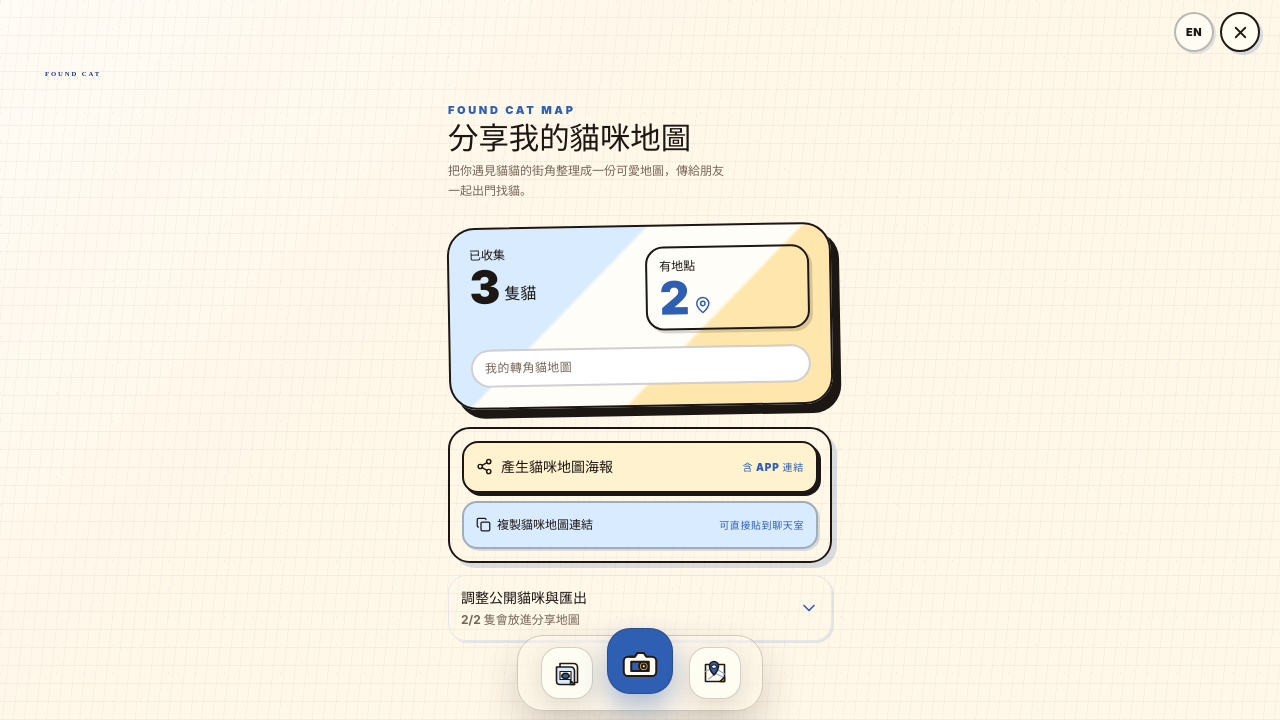
it: ShareCatdex page › keeps public-cat selection and CSV export behind advanced tools until opened
The image size is (1280, 720).
Expected: the button "匯出 Google My Maps CSV" is not shown
Click the button "調整公開貓咪與匯出 2/2 隻會放進分享地圖" at [524, 597], box [448,575,832,641]
(page scrolled)
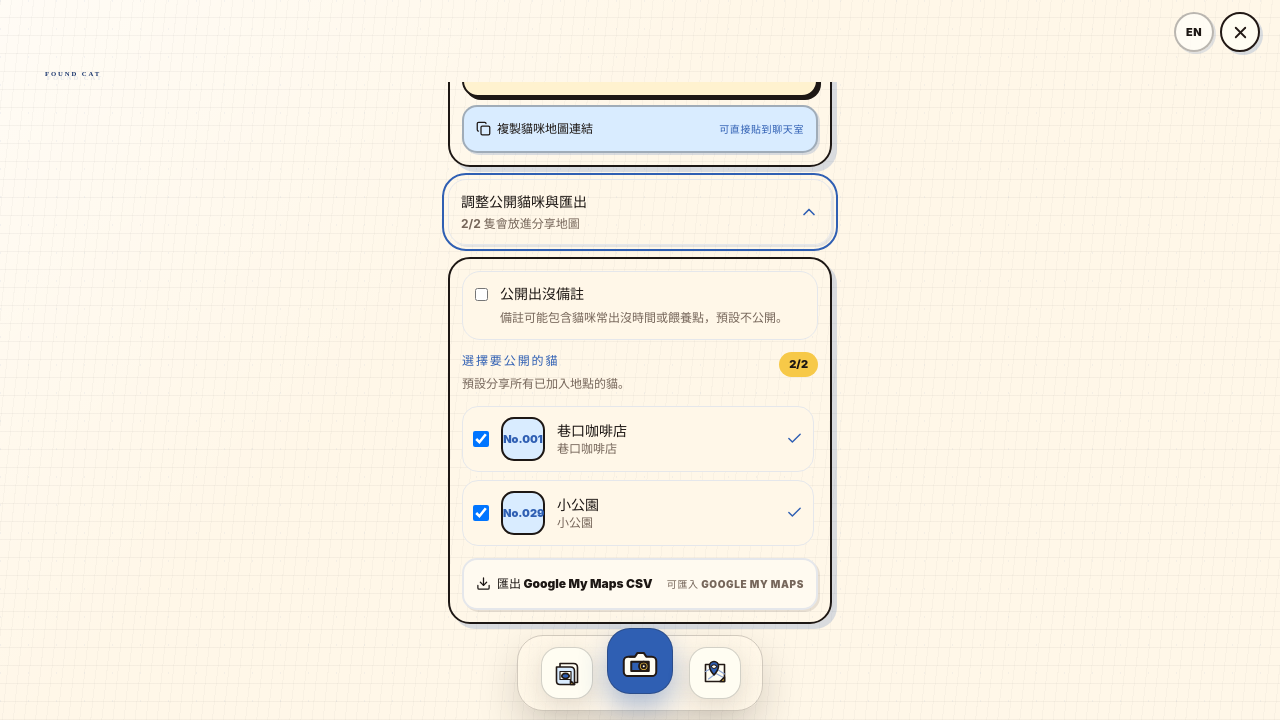
Now the checkbox named "選取 巷口咖啡店" is checked, box [473,431,489,447]
Now the checkbox named "選取 小公園" is checked, box [473,505,489,521]
Now the button "匯出 Google My Maps CSV 可匯入 Google My Maps" is shown, box [462,558,818,610]
